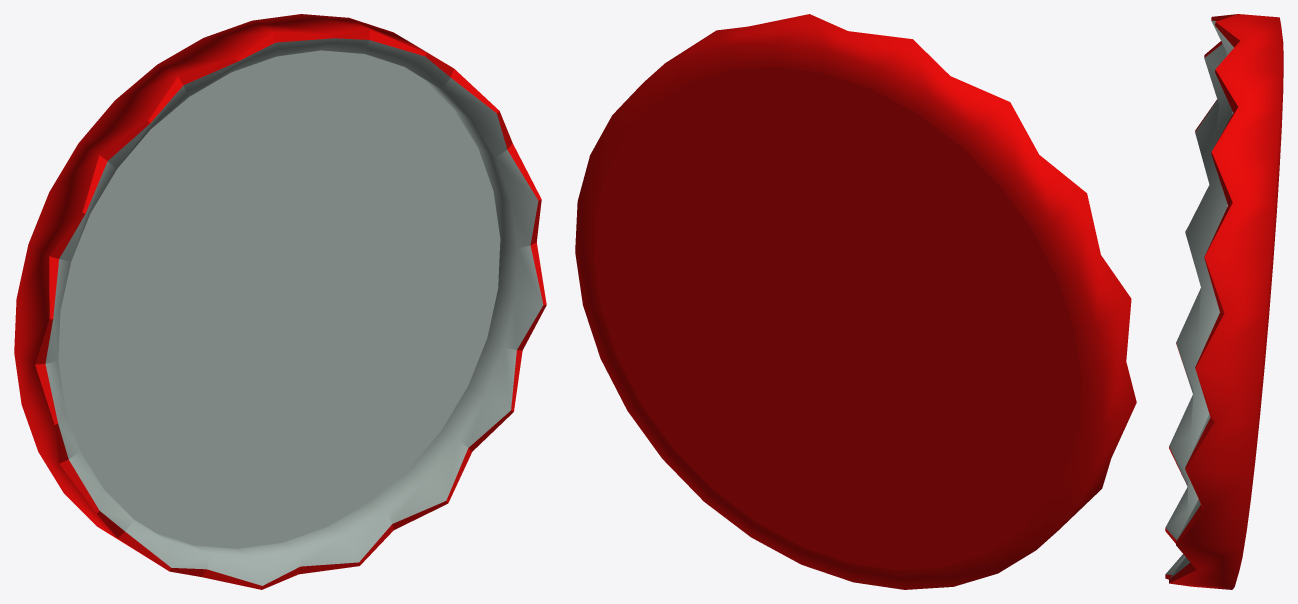
The model's file is BottleCap.fbx.
The picture shows the model from 3 angles, left to right: view 1: azimuth 30°, elevation 25°; view 2: azimuth 150°, elevation 25°; view 3: azimuth 270°, elevation 25°; orthographic projection. The views are drawn at different scales.
Parts seen in each view (by area): view 1: BottleCap; view 2: BottleCap; view 3: BottleCap.
Part boxes in pixels (box(x1,y1,x2,y2)): BottleCap: box(14, 14, 546, 589); BottleCap: box(575, 14, 1136, 589); BottleCap: box(1165, 14, 1283, 589).
Bounding box in the file's own units: 200 × 200 × 41.21.
